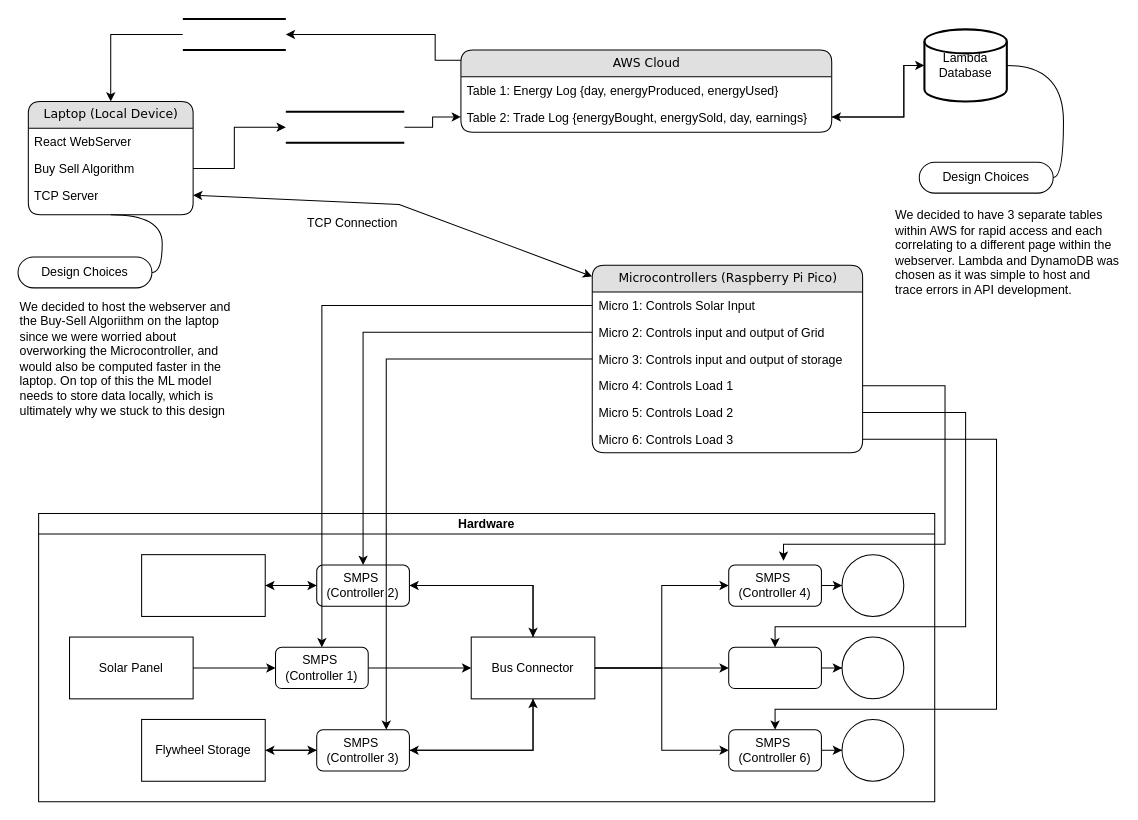
Image size: 1138x820. Some labels were removed from this diagram. Each missing label, with the centre of its shape:
"API CALL (GET)" goes at (x=233, y=34).
"API CALL (POST)" goes at (x=344, y=126).
"External Grid" goes at (x=203, y=585).
"Load 1" goes at (x=872, y=585).
"Load 2" goes at (x=872, y=667).
"Load 3" goes at (x=872, y=749).
"SMPS (Controller 5)" goes at (x=774, y=667).
